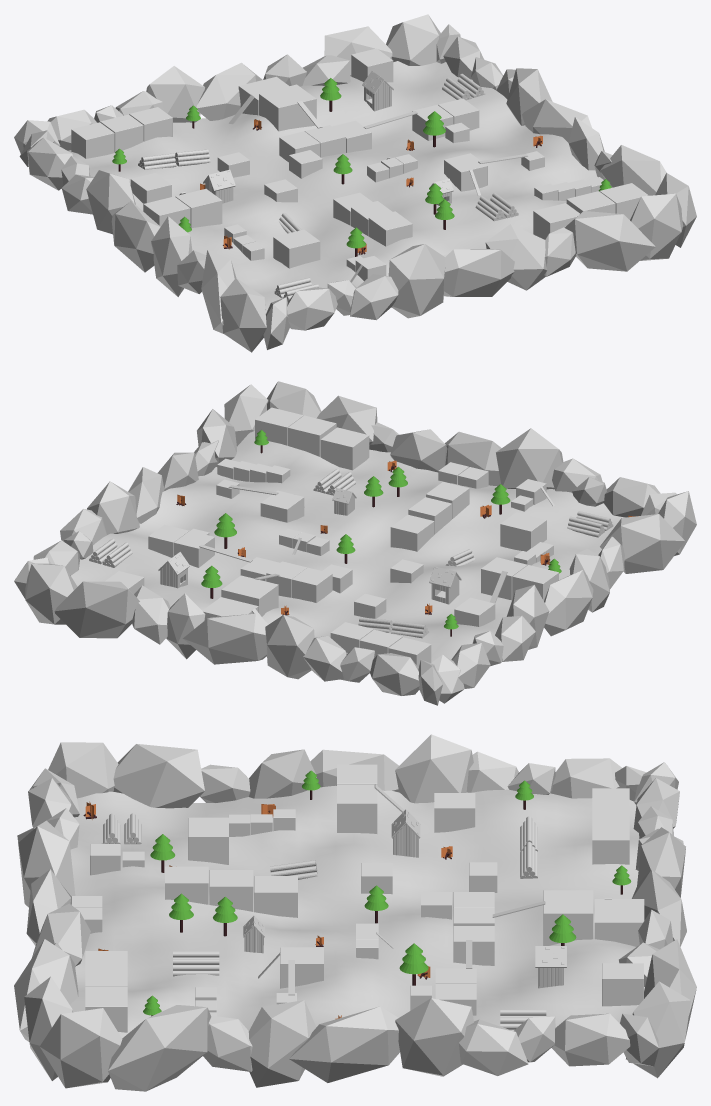
3 renders of one model, top to bottom at view 1: azimuth 30°, elevation 25°; view 2: azimuth 150°, elevation 25°; view 3: azimuth 270°, elevation 25°, orthographic. The views are drawn at different scales.
Parts seen in each view (by area): view 1: outerRock, floor2, box, log, tree, smallHouse, stair, campfire; view 2: outerRock, floor2, box, log, tree, smallHouse, stair, campfire; view 3: outerRock, floor2, box, log, tree, smallHouse, stair, campfire.
Part boxes in pixels (x1=…): outerRock: x1=14, y1=14, x2=696, y2=352; floor2: x1=68, y1=61, x2=597, y2=313; box: x1=71, y1=48, x2=648, y2=281; log: x1=138, y1=73, x2=518, y2=301; tree: x1=112, y1=78, x2=611, y2=256; smallHouse: x1=203, y1=71, x2=453, y2=205; stair: x1=179, y1=94, x2=527, y2=282; campfire: x1=200, y1=119, x2=542, y2=254; outerRock: x1=14, y1=381, x2=696, y2=705; floor2: x1=71, y1=431, x2=625, y2=690; box: x1=105, y1=407, x2=558, y2=667; log: x1=89, y1=469, x2=613, y2=638; tree: x1=201, y1=430, x2=561, y2=636; smallHouse: x1=158, y1=488, x2=461, y2=604; stair: x1=199, y1=485, x2=554, y2=620; campfire: x1=176, y1=460, x2=638, y2=615; outerRock: x1=14, y1=734, x2=696, y2=1091; floor2: x1=70, y1=785, x2=644, y2=1038; box: x1=71, y1=764, x2=644, y2=1032; log: x1=103, y1=813, x2=546, y2=1030; tree: x1=143, y1=770, x2=631, y2=1016; smallHouse: x1=243, y1=809, x2=566, y2=988; stair: x1=101, y1=784, x2=611, y2=995; campfire: x1=83, y1=801, x2=452, y2=1019.
Bounding box in the file's own units: 9740 × 1589 × 9725.
